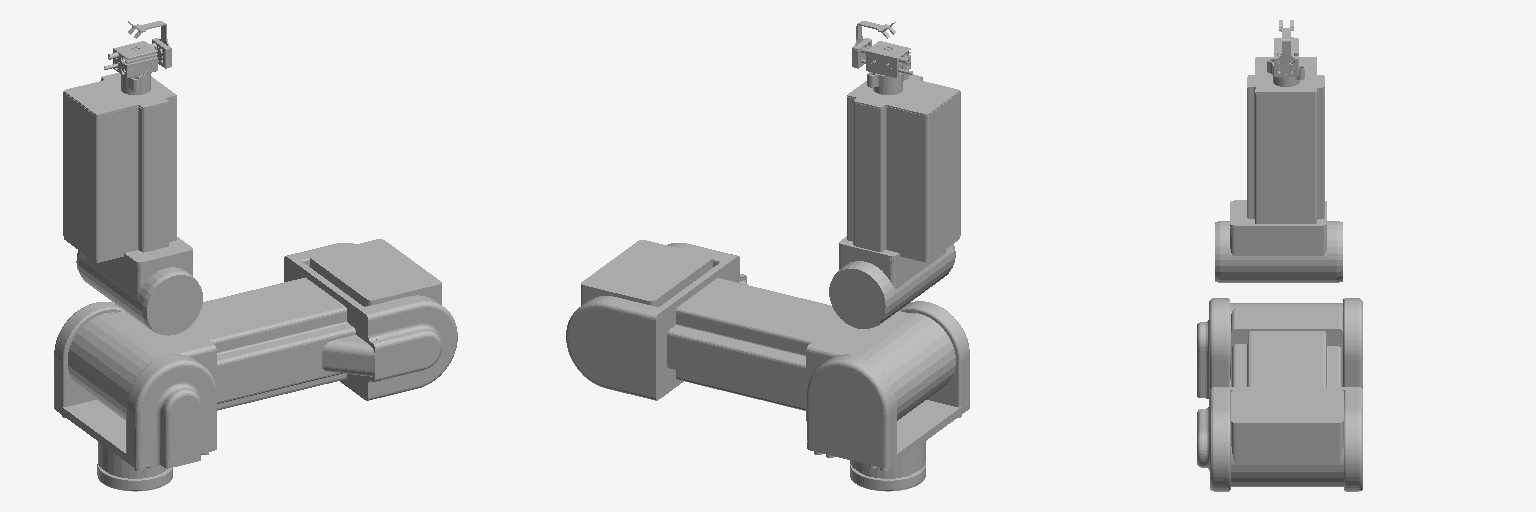
URDF robot description (cobod_arm):
<?xml version="1.0" encoding="utf-8"?>
<robot
  name="cobod_arm">
  <link
    name="Link_1">
    <inertial>
      <origin
        xyz="-3.52E-05 0.00025739 0.18016"
        rpy="0 0 0" />
      <mass
        value="4.7914" />
      <inertia
        ixx="0.010294"
        ixy="-5.0099E-06"
        ixz="-1.4283E-07"
        iyy="0.010294"
        iyz="-5.2258E-08"
        izz="0.014258" />
    </inertial>
    <visual>
      <origin
        xyz="0 0 0"
        rpy="0 0 0" />
      <geometry>
        <mesh
          filename="package://cobod_arm/meshes/Link_1.STL" />
      </geometry>
      <material
        name="">
        <color
          rgba="0.0 0.0 0.0 1.0" />
      </material>
    </visual>
    <collision>
      <origin
        xyz="0 0 0"
        rpy="0 0 0" />
      <geometry>
        <mesh
          filename="package://cobod_arm/meshes/Link_1.STL" />
      </geometry>
    </collision>
  </link>
  <link
    name="Link_2">
    <inertial>
      <origin
        xyz="-7.8391E-06 -0.012776 0.12873"
        rpy="0 0 0" />
      <mass
        value="7.3624" />
      <inertia
        ixx="0.033473"
        ixy="1.1353E-07"
        ixz="-3.2631E-07"
        iyy="0.03182"
        iyz="-0.00011331"
        izz="0.038055" />
    </inertial>
    <visual>
      <origin
        xyz="0 0 0"
        rpy="0 0 0" />
      <geometry>
        <mesh
          filename="package://cobod_arm/meshes/Link_2.STL" />
      </geometry>
      <material
        name="">
        <color
          rgba="0.75294 0.75294 0.75294 1" />
      </material>
    </visual>
    <collision>
      <origin
        xyz="0 0 0"
        rpy="0 0 0" />
      <geometry>
        <mesh
          filename="package://cobod_arm/meshes/Link_2.STL" />
      </geometry>
    </collision>
  </link>
  <joint
    name="Joint_1"
    type="revolute">
    <origin
      xyz="0 0 0.3291"
      rpy="0 0 0" />
    <parent
      link="Link_1" />
    <child
      link="Link_2" />
    <axis
      xyz="0 0 1" />
    <limit
      lower="-4.7123889804"
      upper="4.7123889804"
      effort="30"
      velocity="1.0" />
  </joint>
  <link
    name="Link_3">
    <inertial>
      <origin
        xyz="0.235022759253163 -0.00401386645158441 7.21253701049529E-05"
        rpy="0 0 0" />
      <mass
        value="28.6054693520369" />
      <inertia
        ixx="0.224063966841879"
        ixy="-0.000221363650161617"
        ixz="1.88092275157013E-07"
        iyy="0.226262774331348"
        iyz="-0.00021885612747333"
        izz="0.318560163938282" />
    </inertial>
    <visual>
      <origin
        xyz="0 0 0"
        rpy="0 0 0" />
      <geometry>
        <mesh
          filename="package://cobod_arm/meshes/Link_3.STL" />
      </geometry>
      <material
        name="">
        <color
          rgba="0.75294 0.75294 0.75294 1" />
      </material>
    </visual>
    <collision>
      <origin
        xyz="0 0 0"
        rpy="0 0 0" />
      <geometry>
        <mesh
          filename="package://cobod_arm/meshes/Link_3.STL" />
      </geometry>
    </collision>
  </link>
  <joint
    name="Joint_2"
    type="revolute">
    <origin
      xyz="0 0 0.2105"
      rpy="0 0 0" />
    <parent
      link="Link_2" />
    <child
      link="Link_3" />
    <axis
      xyz="0 1 0" />
    <limit
      lower="-1.5707963268"
      upper="1.5707963268"
      effort="10"
      velocity="1.0" />
  </joint>
  <link
    name="Link_4">
    <inertial>
      <origin
        xyz="-1.45908803927952E-08 0.00196725805663702 0.0139826061951497"
        rpy="0 0 0" />
      <mass
        value="10.0735163552972" />
      <inertia
        ixx="0.112605098335051"
        ixy="-4.67417361729634E-08"
        ixz="-5.04848248636358E-10"
        iyy="0.0510066020994643"
        iyz="6.88874166940094E-09"
        izz="0.108968741789178" />
    </inertial>
    <visual>
      <origin
        xyz="0 0 0"
        rpy="0 0 0" />
      <geometry>
        <mesh
          filename="package://cobod_arm/meshes/Link_4.STL" />
      </geometry>
      <material
        name="">
        <color
          rgba="0.75294 0.75294 0.75294 1" />
      </material>
    </visual>
    <collision>
      <origin
        xyz="0 0 0"
        rpy="0 0 0" />
      <geometry>
        <mesh
          filename="package://cobod_arm/meshes/Link_4.STL" />
      </geometry>
    </collision>
  </link>
  <joint
    name="Joint_3"
    type="revolute">
    <origin
      xyz="0.585 0 0"
      rpy="0 0 0" />
    <parent
      link="Link_3" />
    <child
      link="Link_4" />
    <axis
      xyz="0 1 0" />
    <limit
      lower="-1.5707963268"
      upper="1.5707963268"
      effort="8"
      velocity="1.0" />
  </joint>
  <link
    name="Link_5">
    <inertial>
      <origin
        xyz="-0.247682444320403 -0.00775545106567575 0.111722543098604"
        rpy="0 0 0" />
      <mass
        value="26.5401875392219" />
      <inertia
        ixx="0.184252998305444"
        ixy="0.000149108099598118"
        ixz="0.0098383773550722"
        iyy="0.220799803084113"
        iyz="0.000218788745845401"
        izz="0.275714676562128" />
    </inertial>
    <visual>
      <origin
        xyz="0 0 0"
        rpy="0 0 0" />
      <geometry>
        <mesh
          filename="package://cobod_arm/meshes/Link_5.STL" />
      </geometry>
      <material
        name="">
        <color
          rgba="0.752941176470588 0.752941176470588 0.752941176470588 1" />
      </material>
    </visual>
    <collision>
      <origin
        xyz="0 0 0"
        rpy="0 0 0" />
      <geometry>
        <mesh
          filename="package://cobod_arm/meshes/Link_5.STL" />
      </geometry>
    </collision>
  </link>
  <joint
    name="Joint_4"
    type="fixed">
    <origin
      xyz="0 0 0.107"
      rpy="0 0 0" />
    <parent
      link="Link_4" />
    <child
      link="Link_5" />
    <axis
      xyz="0 0 0" />
  </joint>
  <link
    name="Link_6">
    <inertial>
      <origin
        xyz="-0.022500253006789 -0.0072895768140177 0.1744358916349"
        rpy="0 0 0" />
      <mass
        value="16.529018462687" />
      <inertia
        ixx="0.168047413371887"
        ixy="-2.34589761332764E-05"
        ixz="8.05477021766983E-10"
        iyy="0.14814978411948"
        iyz="-7.90247161599344E-09"
        izz="0.103973473045969" />
    </inertial>
    <visual>
      <origin
        xyz="0 0 0"
        rpy="0 0 0" />
      <geometry>
        <mesh
          filename="package://cobod_arm/meshes/Link_6.STL" />
      </geometry>
      <material
        name="">
        <color
          rgba="0.75294 0.75294 0.75294 1" />
      </material>
    </visual>
    <collision>
      <origin
        xyz="0 0 0"
        rpy="0 0 0" />
      <geometry>
        <mesh
          filename="package://cobod_arm/meshes/Link_6.STL" />
      </geometry>
    </collision>
  </link>
  <joint
    name="Joint_5"
    type="revolute">
    <origin
      xyz="-0.585 0 0.122"
      rpy="0 0 0" />
    <parent
      link="Link_5" />
    <child
      link="Link_6" />
    <axis
      xyz="0 1 0" />
    <limit
      lower="-1.5707963268"
      upper="1.5707963268"
      effort="6"
      velocity="1.0" />
  </joint>
  <link
    name="Gripper_base">
    <inertial>
      <origin
        xyz="-4.5193E-06 0.0005579 0.044226"
        rpy="0 0 0" />
      <mass
        value="0.28869" />
      <inertia
        ixx="0.00012313"
        ixy="-8.8747E-06"
        ixz="1.1977E-07"
        iyy="0.00013954"
        iyz="-2.1242E-06"
        izz="0.0002004" />
    </inertial>
    <visual>
      <origin
        xyz="0 0 0"
        rpy="0 0 0" />
      <geometry>
        <mesh
          filename="package://cobod_arm/meshes/Gripper_base.STL" />
      </geometry>
      <material
        name="">
        <color
          rgba="0.75294 0.75294 0.75294 1" />
      </material>
    </visual>
    <collision>
      <origin
        xyz="0 0 0"
        rpy="0 0 0" />
      <geometry>
        <mesh
          filename="package://cobod_arm/meshes/Gripper_base.STL" />
      </geometry>
    </collision>
  </link>
  <joint
    name="Joint_6"
    type="revolute">
    <origin
      xyz="0 -0.001 0.4354"
      rpy="0 0 0" />
    <parent
      link="Link_6" />
    <child
      link="Gripper_base" />
    <axis
      xyz="0 0 1" />
    <limit
      lower="-1.5707963268"
      upper="1.5707963268"
      effort="4"
      velocity="1.0" />
  </joint>
  <link
    name="Gripper_1">
    <inertial>
      <origin
        xyz="-0.108 -0.2101 0.39631"
        rpy="0 0 0" />
      <mass
        value="0.067507" />
      <inertia
        ixx="3.4848E-05"
        ixy="-1.7749E-09"
        ixz="-8.6485E-06"
        iyy="5.5859E-05"
        iyz="-2.7888E-07"
        izz="4.3644E-05" />
    </inertial>
    <visual>
      <origin
        xyz="0 0 0"
        rpy="0 0 0" />
      <geometry>
        <mesh
          filename="package://cobod_arm/meshes/Gripper_1.STL" />
      </geometry>
      <material
        name="">
        <color
          rgba="0.75294 0.75294 0.75294 1" />
      </material>
    </visual>
    <collision>
      <origin
        xyz="0 0 0"
        rpy="0 0 0" />
      <geometry>
        <mesh
          filename="package://cobod_arm/meshes/Gripper_1.STL" />
      </geometry>
    </collision>
  </link>
  <joint
    name="Joint_7"
    type="prismatic">
    <origin
      xyz="0.0678 0.20642 -0.31502"
      rpy="0 0 0" />
    <parent
      link="Gripper_base" />
    <child
      link="Gripper_1" />
    <axis
      xyz="1 0 0" />
    <limit
      lower="-0.01285"
      upper="0"
      effort="10"
      velocity="1.0" />
  </joint>
  <link
    name="Gripper_2">
    <inertial>
      <origin
        xyz="0.10897 -0.20255 0.39382"
        rpy="0 0 0" />
      <mass
        value="0.064664" />
      <inertia
        ixx="3.1278E-05"
        ixy="2.7077E-08"
        ixz="6.0458E-06"
        iyy="5.0311E-05"
        iyz="2.2825E-07"
        izz="4.0103E-05" />
    </inertial>
    <visual>
      <origin
        xyz="0 0 0"
        rpy="0 0 0" />
      <geometry>
        <mesh
          filename="package://cobod_arm/meshes/Gripper_2.STL" />
      </geometry>
      <material
        name="">
        <color
          rgba="0.75294 0.75294 0.75294 1" />
      </material>
    </visual>
    <collision>
      <origin
        xyz="0 0 0"
        rpy="0 0 0" />
      <geometry>
        <mesh
          filename="package://cobod_arm/meshes/Gripper_2.STL" />
      </geometry>
    </collision>
  </link>
  <joint
    name="Joint_8"
    type="prismatic">
    <origin
      xyz="-0.0678 0.20642 -0.31502"
      rpy="0 0 0" />
    <parent
      link="Gripper_base" />
    <child
      link="Gripper_2" />
    <axis
      xyz="-1 0 0" />
    <limit
      lower="-0.01285"
      upper="0"
      effort="10"
      velocity="1.0" />
  </joint>

  <gazebo reference="Link_1">
    <material>Gazebo/Black</material>
  </gazebo>

<!--######################################################################-->
  <gazebo>
    <plugin name="gazebo_ros_control" filename="libgazebo_ros_control.so">
      <robotNamespace>/</robotNamespace>
      <controlPeriod>0.001</controlPeriod>
      <legacyModeNS>false</legacyModeNS>
    </plugin>
  </gazebo>

<!--######################################################################-->
  <gazebo>
    <plugin name="joint_state_publisher" filename="libgazebo_ros_joint_state_publisher.so">
      <jointName>Joint_1, Joint_2, Joint_3, Joint_5, Joint_6, Joint_7, Joint_8</jointName>
    </plugin>
  </gazebo>

</robot>

--- Render facts (derived) ---
Views: 3 orthographic renders of the robot side by side, from view 1: azimuth 30°, elevation 25°; view 2: azimuth 150°, elevation 25°; view 3: azimuth 270°, elevation 25°.
Model cobod_arm with 9 links and 8 joints (5 revolute, 2 prismatic, 1 fixed), rooted at Link_1, posed all joints at 0.
Visible links, largest first — view 1: Link_3, Link_6, Link_2, Link_4, Gripper_base, Gripper_2; view 2: Link_3, Link_6, Link_2, Link_4, Gripper_base, Gripper_2; view 3: Link_6, Link_3, Link_4, Link_2, Gripper_2, Gripper_base.
Boxes of the visible links, x1,y1,x2,y2 form: Link_3: [68, 243, 457, 419]; Link_6: [63, 73, 202, 335]; Link_2: [54, 302, 216, 491]; Link_4: [310, 239, 441, 306]; Gripper_base: [113, 41, 157, 94]; Gripper_2: [104, 21, 171, 69]; Link_3: [566, 243, 955, 420]; Link_6: [829, 74, 960, 328]; Link_2: [807, 301, 969, 491]; Link_4: [581, 240, 712, 306]; Gripper_base: [866, 41, 910, 94]; Gripper_2: [852, 21, 912, 74]; Link_6: [1215, 57, 1342, 282]; Link_3: [1197, 303, 1362, 491]; Link_4: [1231, 390, 1343, 486]; Link_2: [1197, 298, 1362, 405]; Gripper_2: [1274, 20, 1298, 76]; Gripper_base: [1267, 38, 1304, 86].
Size in the robot's own frame: 0.822 by 0.3854 by 1.05 metres.
Meshes: 9 distinct files referenced, 6 mesh visuals loaded (6 binary STL); not drawn: 3 (reference not matched to a file when rendering).
